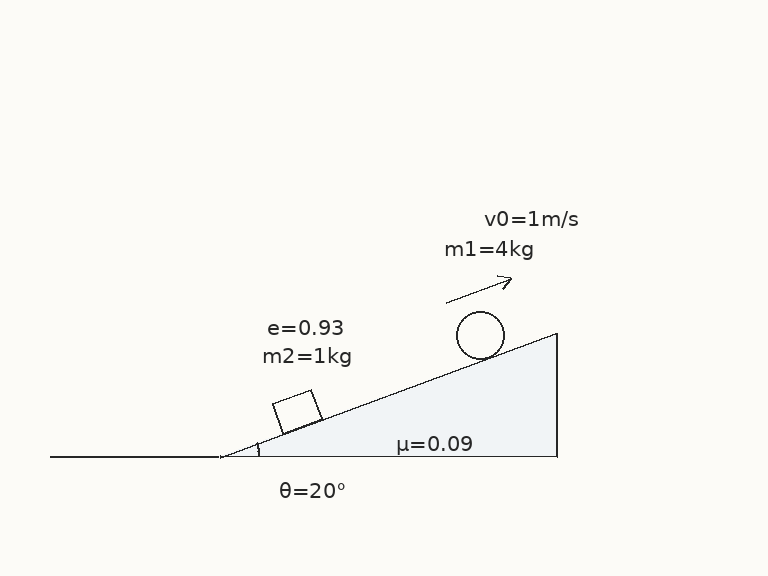ball: (454, 309, 506, 361)
block: (270, 388, 324, 435)
ramp: (217, 332, 557, 458)
